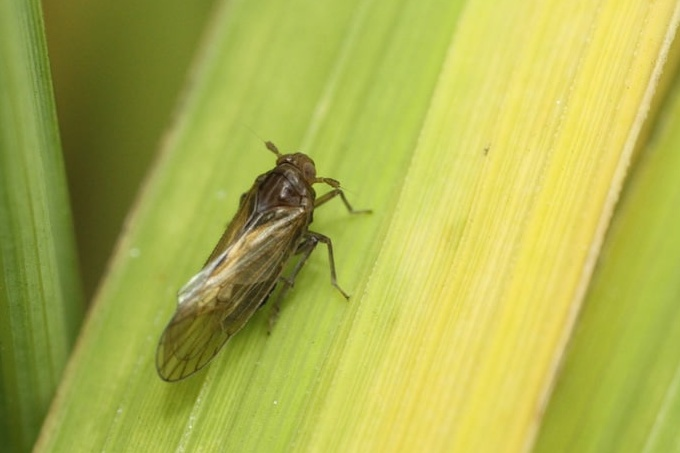Brown_hopper: (136, 142, 382, 386)
